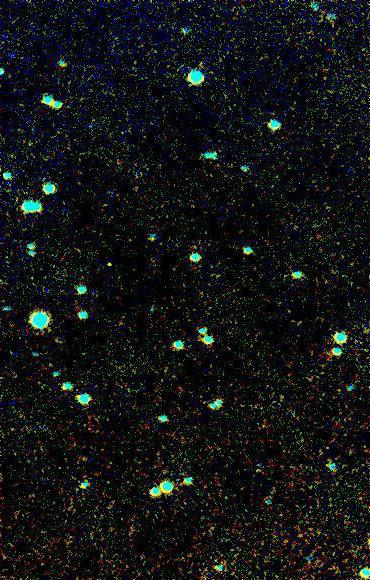star: (92, 245, 122, 275)
